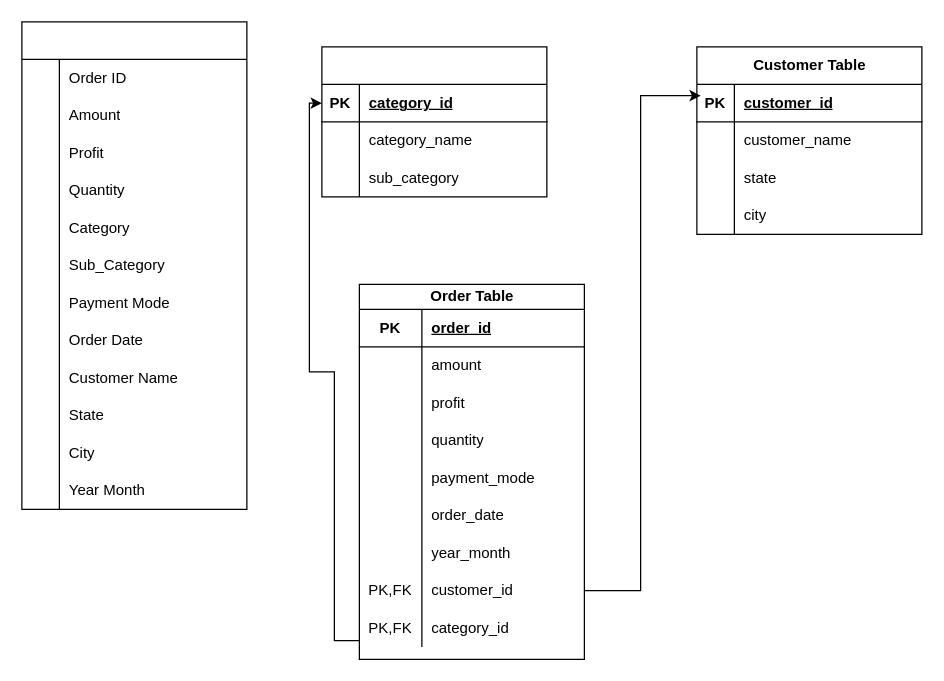
The diagram is 944 pixels wide and 681 high, and some of its shapes have lost their labels. Here are the shapes that lost their labels. From the top down, the box of each, then its label:
(321, 46, 547, 197): Category Table
(21, 21, 247, 509): Sales Data Set Project
